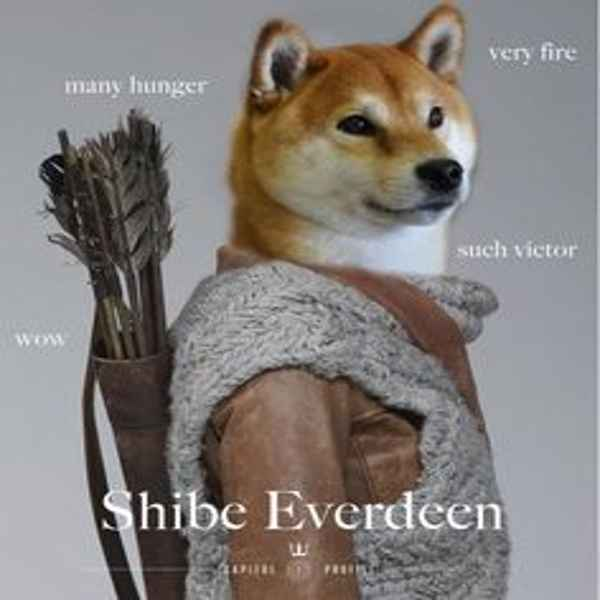doge: (234, 11, 492, 240)
